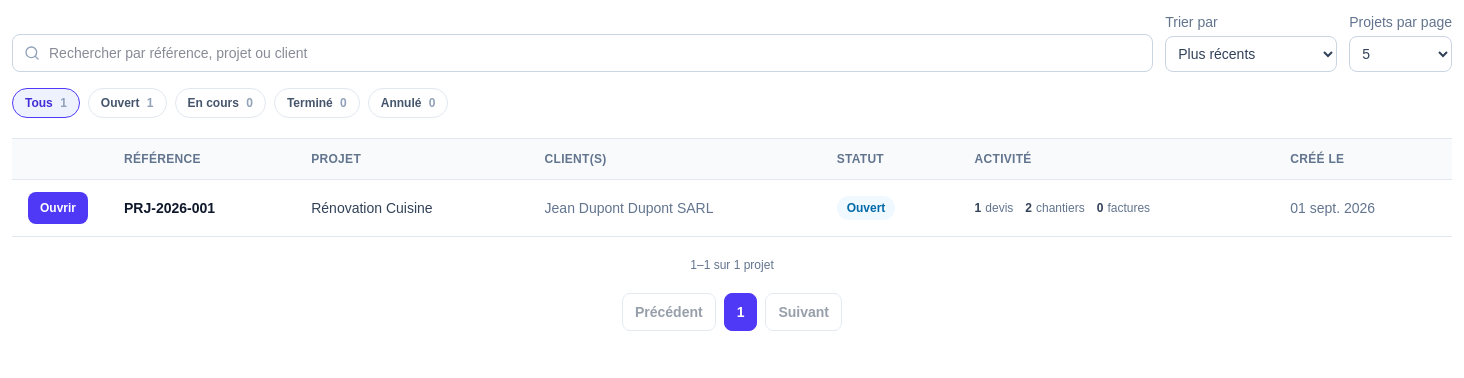
it: ProjectsList › filters projects by reference, title, and customer and distinguishes an empty result
The image size is (1464, 378).
Type "inexistant" into the search field named "Rechercher un projet" at (583, 53), box [12, 34, 1153, 72]
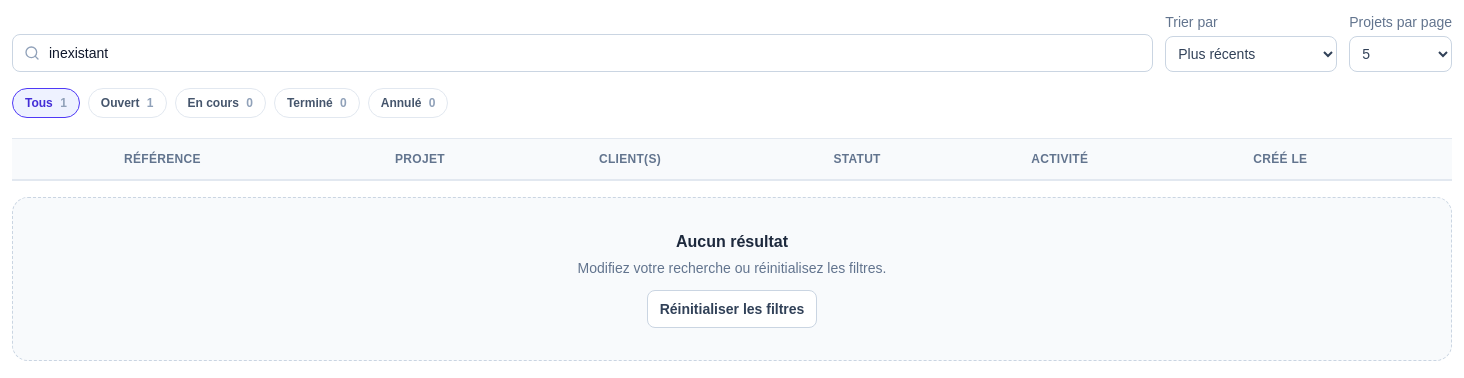
Check: the text "Aucun résultat" is shown, box [676, 233, 788, 250]
Check: the button "Réinitialiser les filtres" is shown, box [647, 290, 817, 328]
